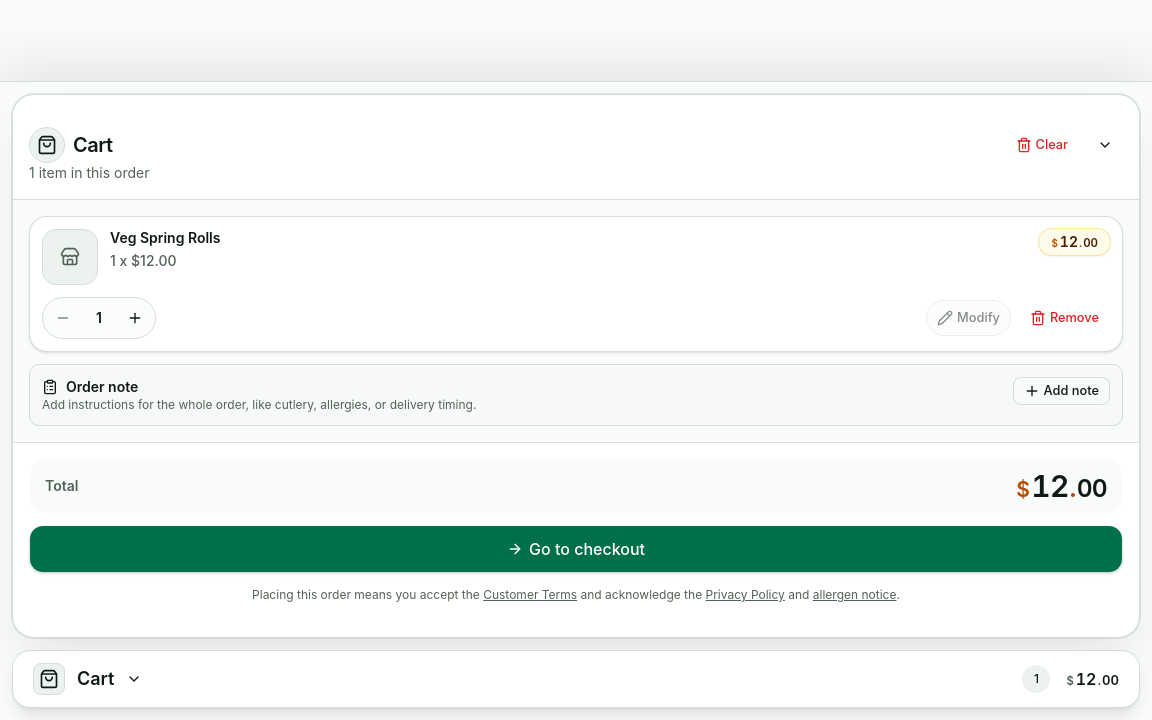
Test: the Clear button › opens the confirmation dialog on click
The image size is (1152, 720).
Click the button "Clear".
click(1042, 145)  # box [1004, 131, 1079, 159]
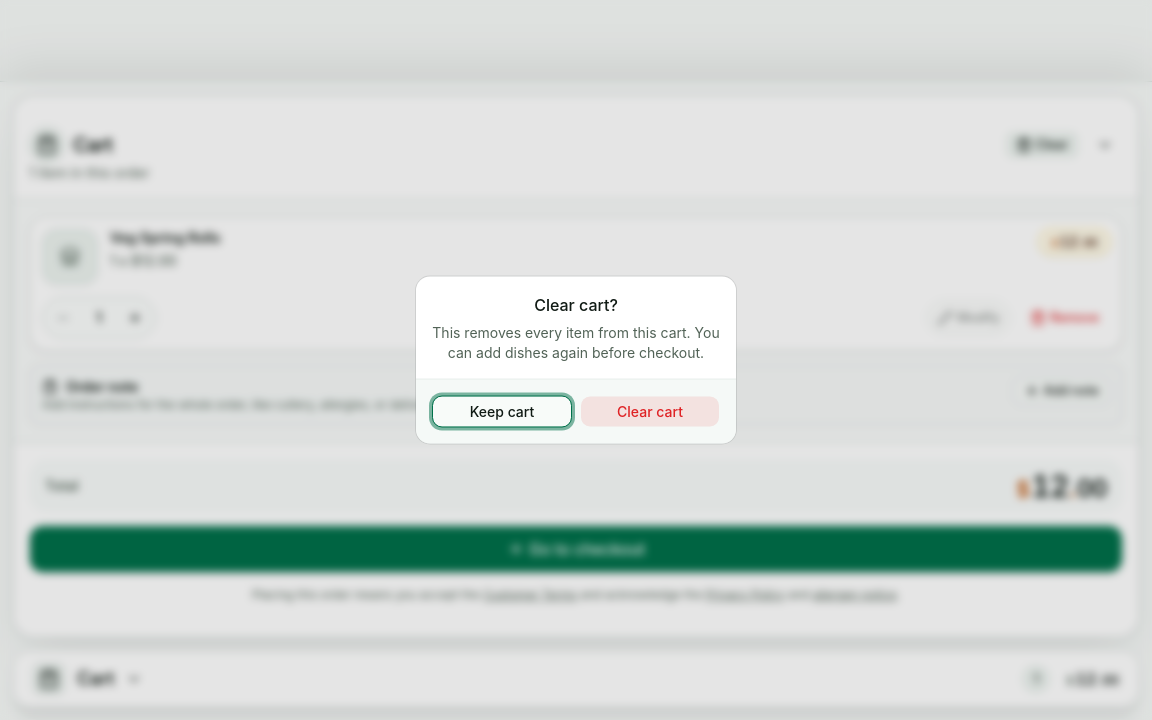
Result: the dialog is shown at [416, 276, 736, 444]
Result: the heading "Clear cart?" is shown at [534, 292, 618, 316]
Result: the button "Keep cart" is shown at [432, 396, 572, 428]
